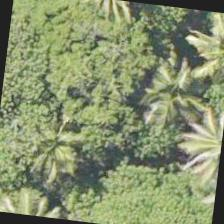Kelapa_Sawit: (130, 40, 223, 141), (0, 95, 84, 195), (160, 6, 223, 94)
